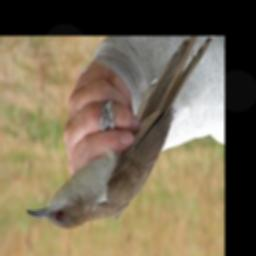Cuckoo: (25, 36, 213, 230)
